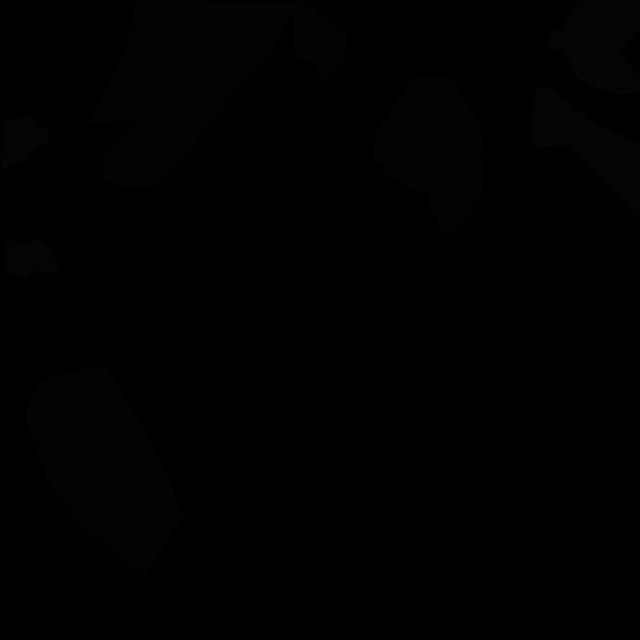cardboard: (84, 0, 347, 190), (24, 365, 184, 577), (373, 74, 486, 234)
soft_plastic: (530, 87, 640, 219), (545, 0, 640, 96), (0, 115, 49, 170), (5, 237, 60, 280)
